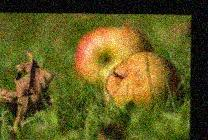rotten apple: (101, 52, 182, 105)
